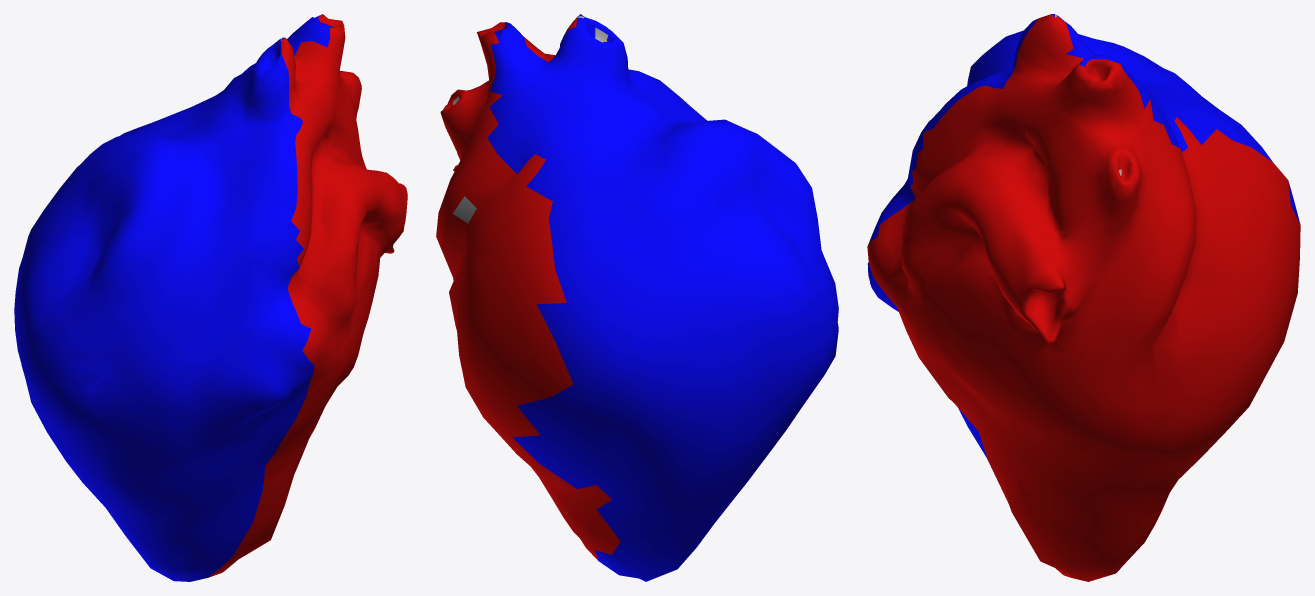
The model's file is heart-2.obj.
3 renders of one model, left to right at view 1: azimuth 30°, elevation 25°; view 2: azimuth 150°, elevation 25°; view 3: azimuth 270°, elevation 25°, orthographic. The views are drawn at different scales.
Visible parts, largest first — view 1: Heart; view 2: Heart; view 3: Heart.
Part boxes in pixels (box(x1,y1,x2,y2)): Heart: box(14, 14, 407, 581); Heart: box(436, 14, 838, 581); Heart: box(867, 14, 1300, 581).
Size of the model in its own units: 0.2958 by 0.4056 by 0.2632.
